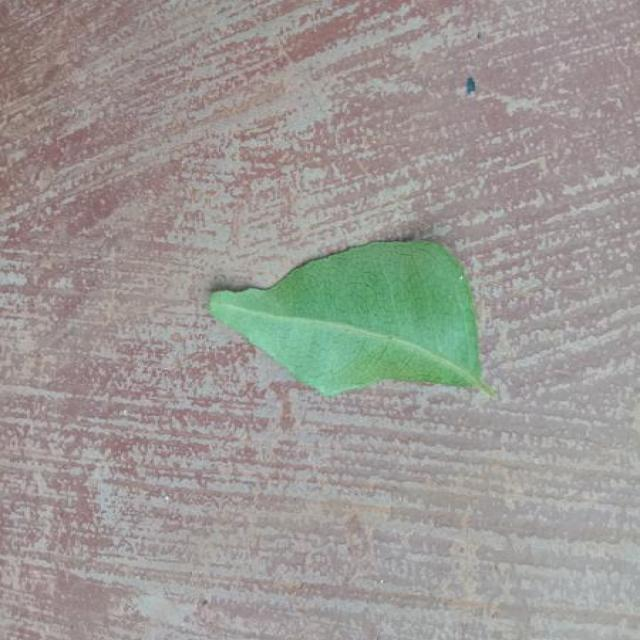curry: (210, 241, 493, 395)
